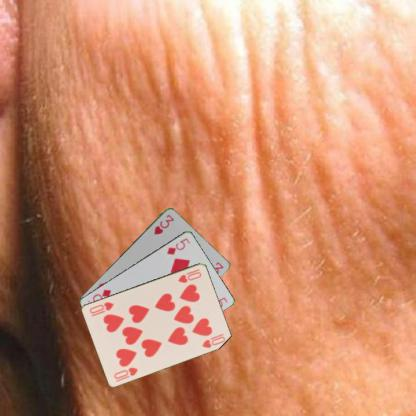10h: (175, 266, 203, 284), (112, 365, 139, 380)
3h: (151, 211, 175, 236)
5d: (164, 235, 191, 256)
